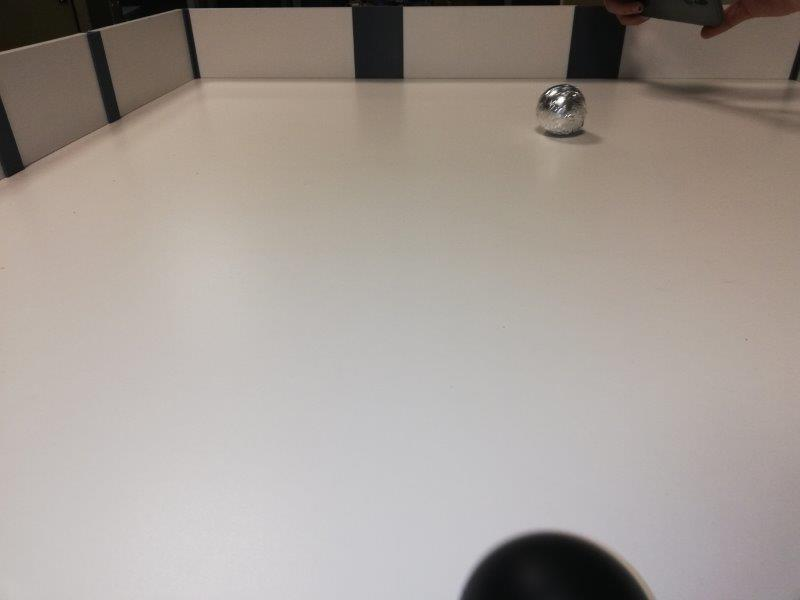bianca: (538, 83, 587, 137)
nera: (456, 530, 660, 600)
